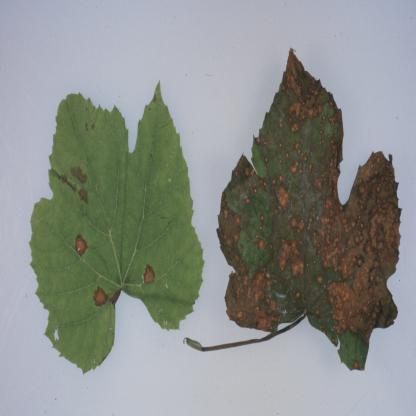grape leaf: (210, 42, 408, 376), (13, 76, 207, 394)
